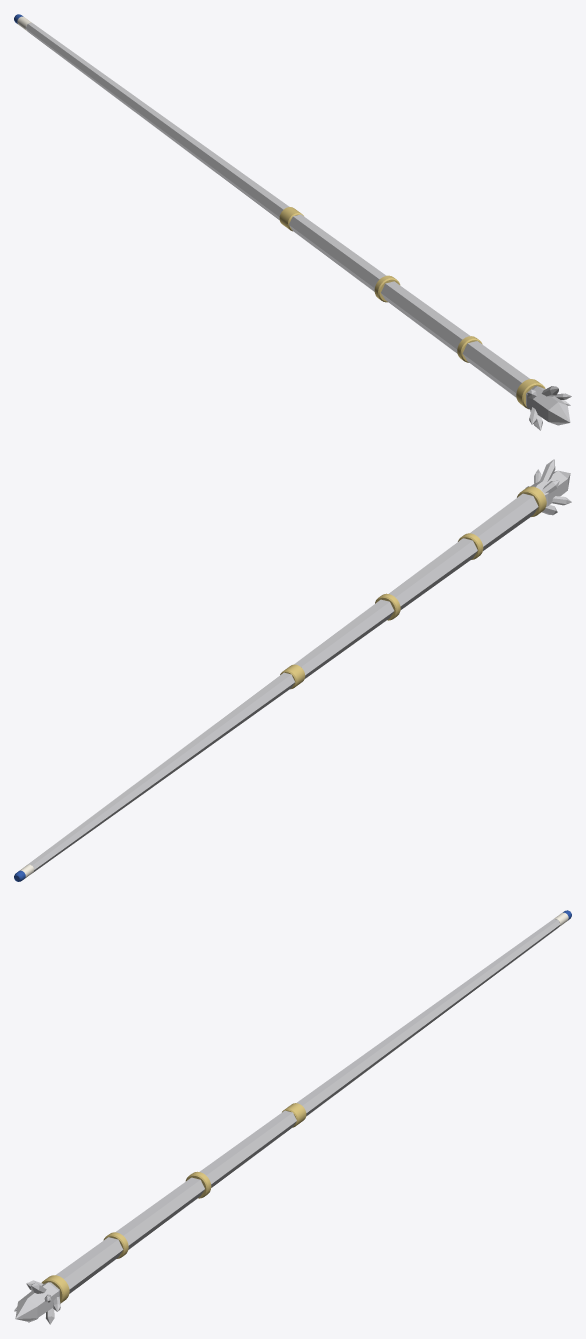
Rendered from cue_crystal.glb.
3 views of the same model, one above another, from view 1: azimuth 30°, elevation 25°; view 2: azimuth 150°, elevation 25°; view 3: azimuth 330°, elevation 25° (orthographic).
Parts seen in each view (by area): view 1: crystal, shard, metal; view 2: crystal, shard, metal; view 3: crystal, shard, metal.
Boxes of the visible parts, x1=… form: crystal: x1=25, y1=23, x2=529, y2=397; shard: x1=526, y1=386, x2=571, y2=430; metal: x1=279, y1=207, x2=545, y2=409; crystal: x1=28, y1=493, x2=538, y2=872; shard: x1=525, y1=459, x2=571, y2=515; metal: x1=280, y1=486, x2=546, y2=689; crystal: x1=55, y1=919, x2=560, y2=1293; shard: x1=14, y1=1280, x2=60, y2=1324; metal: x1=41, y1=1103, x2=306, y2=1303.
Size of the model in its own units: 0.0635 by 0.0666 by 1.47.
